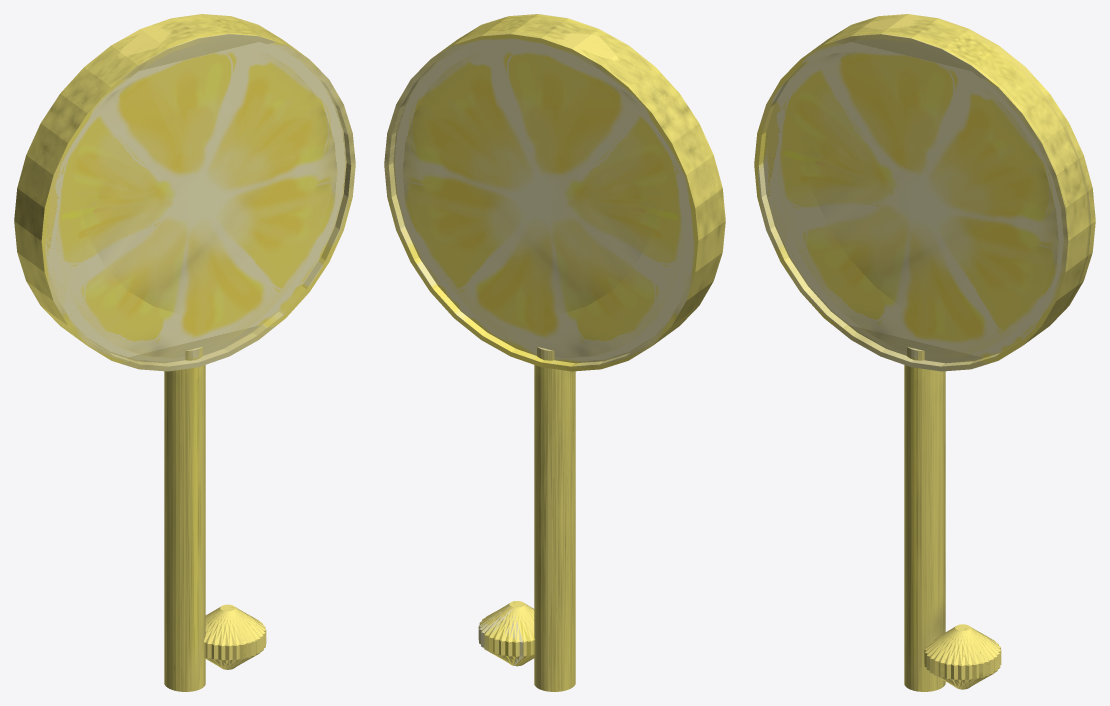
Rendered from sourass.fbx.
The picture shows the model from 3 angles, left to right: view 1: azimuth 30°, elevation 25°; view 2: azimuth 150°, elevation 25°; view 3: azimuth 330°, elevation 25°; orthographic projection.
Parts seen in each view (by area): view 1: Cylinder; view 2: Cylinder; view 3: Cylinder.
Boxes of the visible parts, box(x1,y1,x2,y2) form: Cylinder: box(14, 14, 355, 691); Cylinder: box(384, 14, 725, 691); Cylinder: box(754, 14, 1095, 691).
Size of the model in its own units: 200 by 398 by 42.41.
Materials: 1 (1 with a texture image).
